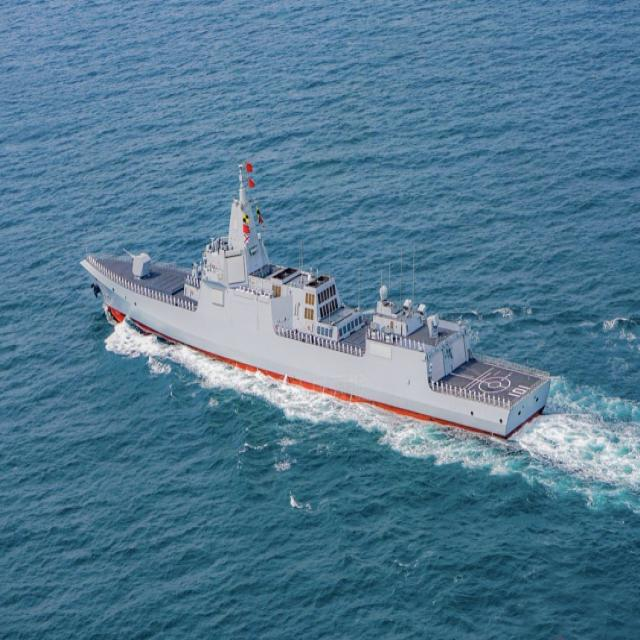Destroyer-Renhai-Class-055-CHI: (78, 154, 554, 450)
